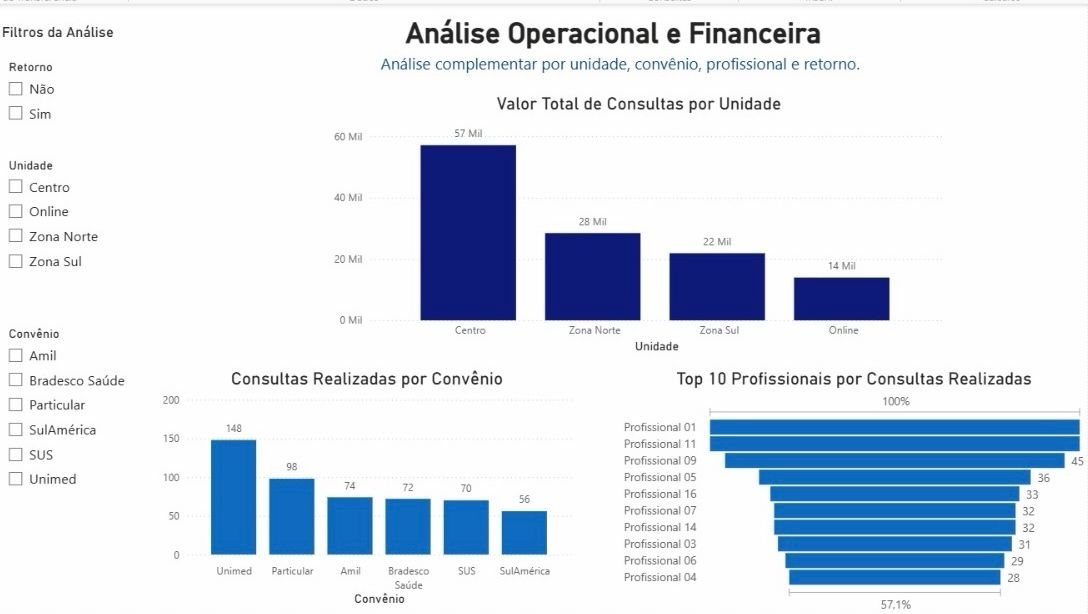

The dashboard page shown, as its layout file describes it:
{"tool":"powerbi","page":{"name":"Análise Operacional e Financeira","canvas":[1280,720],"ordinal":1},"visuals":[{"type":"columnChart","title":"Valor Total de Consultas por Unidade","fields":{"Y":["TabelaAtendimentos.Valor Total  Consultas"],"Category":["TabelaAtendimentos.Unidade"]},"box":[390.1,105.2,725.1,310.6],"z":0},{"type":"columnChart","title":"Consultas Realizadas por Convênio","fields":{"Category":["TabelaAtendimentos.Convenio"],"Y":["TabelaAtendimentos.Consultas Realizadas"]},"box":[188.3,428,490.4,283.7],"z":1000},{"type":"funnel","title":"Top 10 Profissionais por Consultas Realizadas ","fields":{"Y":["TabelaAtendimentos.Consultas Realizadas"],"Category":["TabelaAtendimentos.Profissional_Anonimizado"]},"box":[730.3,428.4,550.3,291.6],"z":2000},{"type":"slicer","fields":{"Values":["TabelaAtendimentos.Retorno"]},"box":[0,61.1,201.8,88],"z":3000},{"type":"slicer","fields":{"Values":["TabelaAtendimentos.Unidade"]},"box":[0,176.1,201.8,192],"z":4000},{"type":"slicer","fields":{"Values":["TabelaAtendimentos.Convenio"]},"box":[0,374.2,156.5,206.7],"z":5000},{"type":"textbox","box":[0,18.3,171.2,34.2],"z":6000},{"type":"textbox","box":[456.1,9.8,533.2,51.4],"z":7000},{"type":"textbox","box":[437.8,52.6,585.7,51.4],"z":8000}]}

Visuals, with their boxes on the page's 1280x720 design canvas (x1, y1, x2, y2). These are canvas units, not pixel positions in the 1088x614 screenshot, which may show the page scaled, cropped or inside an application window:
"Valor Total de Consultas por Unidade" columnChart: (x1=390, y1=105, x2=1115, y2=416)
"Consultas Realizadas por Convênio" columnChart: (x1=188, y1=428, x2=679, y2=712)
"Top 10 Profissionais por Consultas Realizadas " funnel: (x1=730, y1=428, x2=1281, y2=720)
slicer - TabelaAtendimentos.Retorno: (x1=0, y1=61, x2=202, y2=149)
slicer - TabelaAtendimentos.Unidade: (x1=0, y1=176, x2=202, y2=368)
slicer - TabelaAtendimentos.Convenio: (x1=0, y1=374, x2=156, y2=581)
textbox: (x1=0, y1=18, x2=171, y2=52)
textbox: (x1=456, y1=10, x2=989, y2=61)
textbox: (x1=438, y1=53, x2=1024, y2=104)
